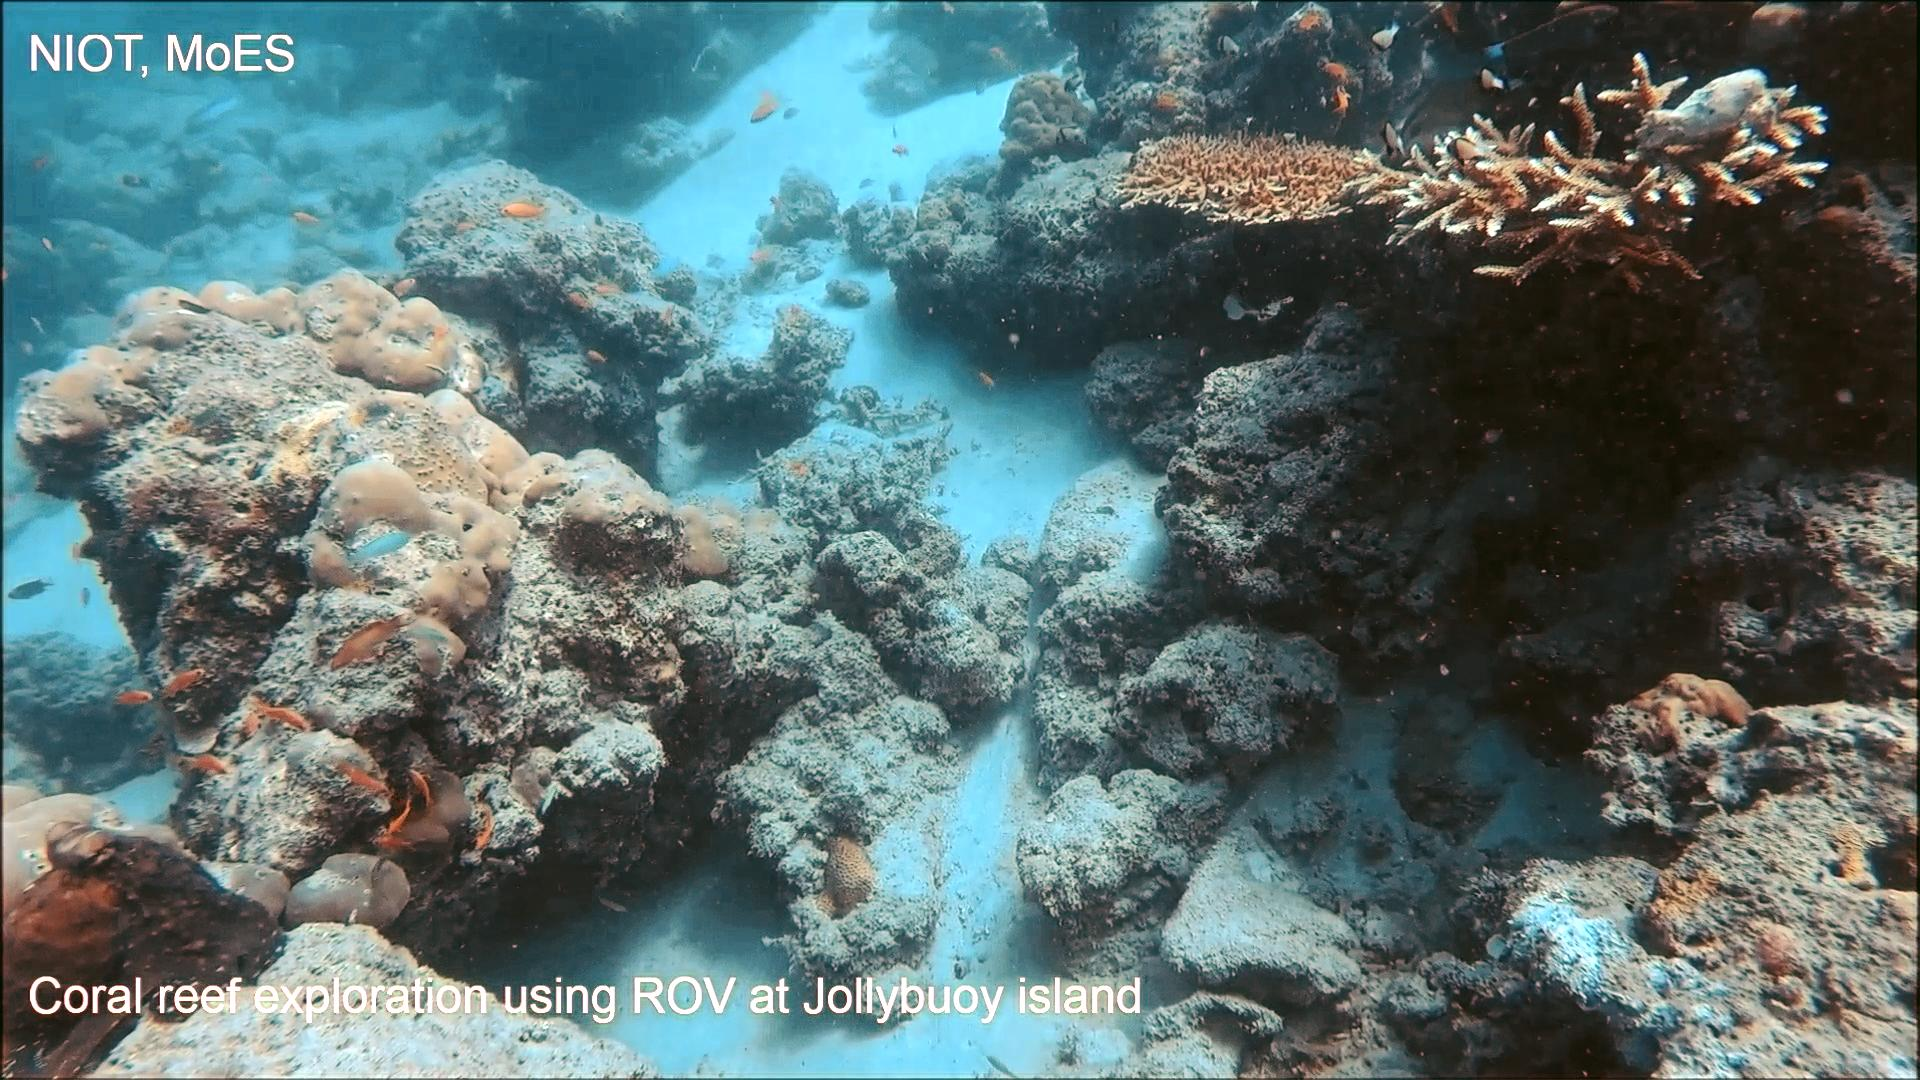Porites-Porites pukoensis: (256, 262, 578, 632)
